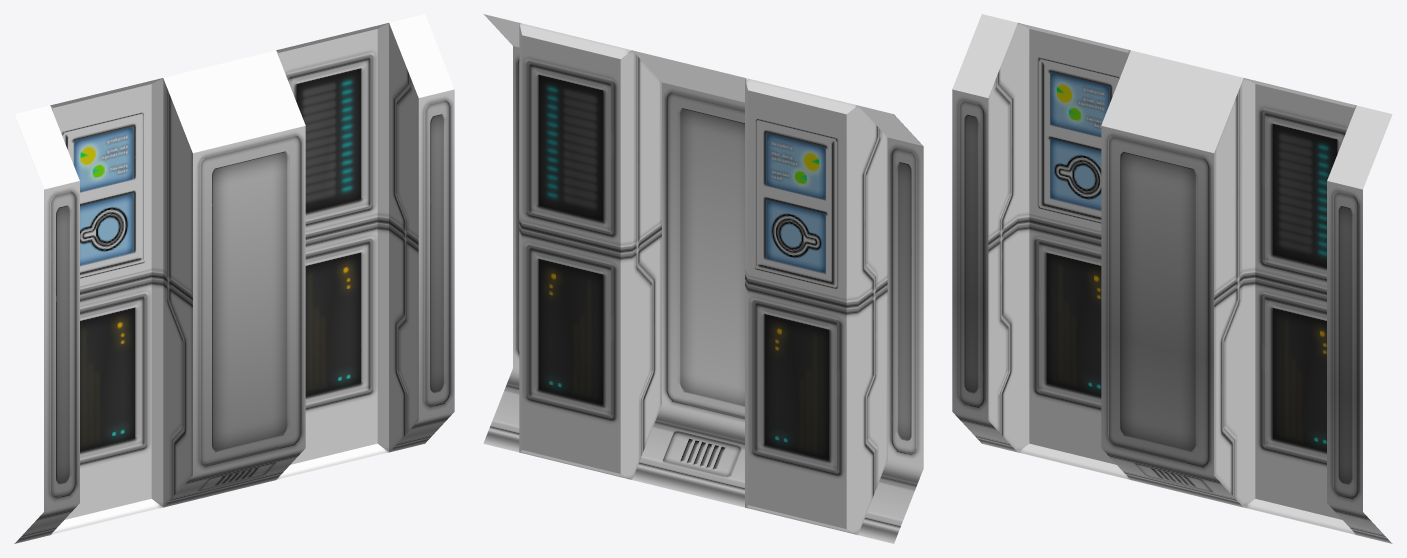
Rendered from Sect_Wall_2_Servers.FBX.
3 renders of one model, left to right at view 1: azimuth 30°, elevation 25°; view 2: azimuth 150°, elevation 25°; view 3: azimuth 330°, elevation 25°, orthographic.
Visible parts, largest first — view 1: Wall_2_Servers; view 2: Wall_2_Servers; view 3: Wall_2_Servers.
Boxes of the visible parts, bbox=[...] form: Wall_2_Servers: bbox=[14, 14, 454, 543]; Wall_2_Servers: bbox=[483, 14, 923, 543]; Wall_2_Servers: bbox=[952, 14, 1392, 543].
Size of the model in its own units: 4 by 4 by 0.5731.
